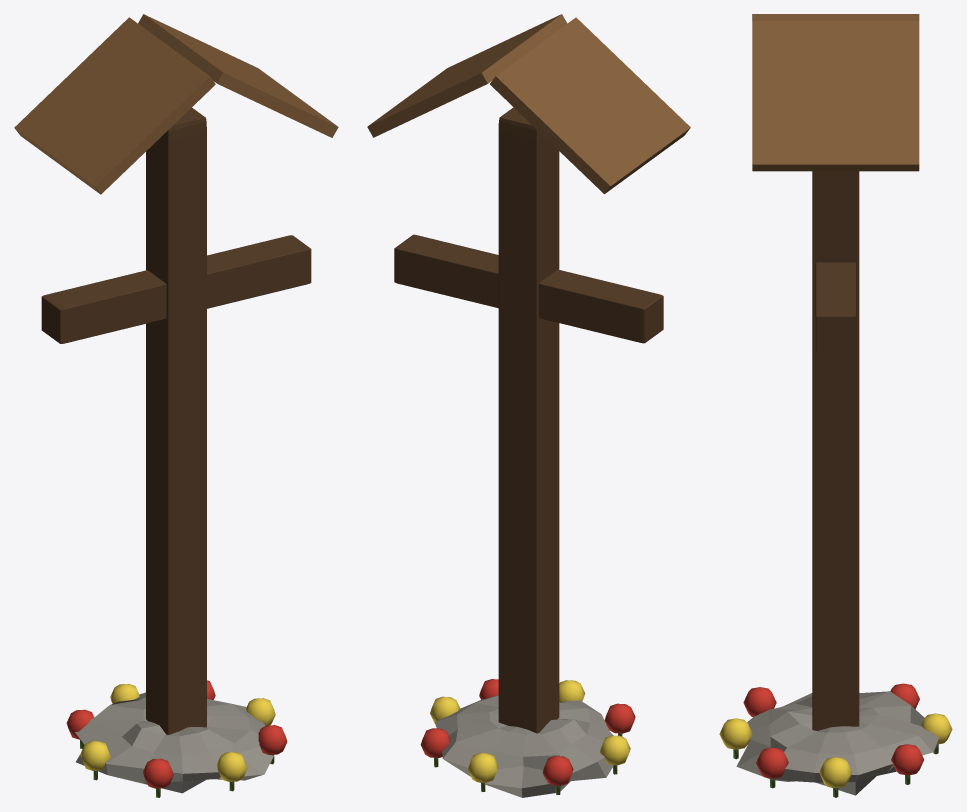
File: wegkreuz_holz.glb
3 renders of one model, left to right at view 1: azimuth 30°, elevation 25°; view 2: azimuth 150°, elevation 25°; view 3: azimuth 270°, elevation 25°, orthographic. The views are drawn at different scales.
Visible parts, largest first — view 1: Cube; view 2: Cube; view 3: Cube.
Part boxes in pixels (bbox=[...]): Cube: bbox=[14, 14, 338, 797]; Cube: bbox=[367, 14, 690, 797]; Cube: bbox=[719, 14, 952, 797].
Size of the model in its own units: 0.9 by 2.49 by 0.6987.
